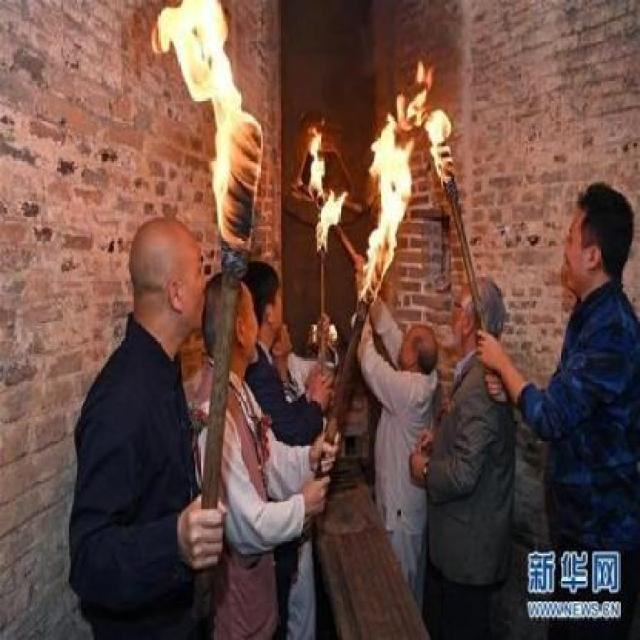Fire: (157, 1, 266, 250), (364, 47, 457, 314), (304, 110, 350, 251), (310, 318, 338, 351)
